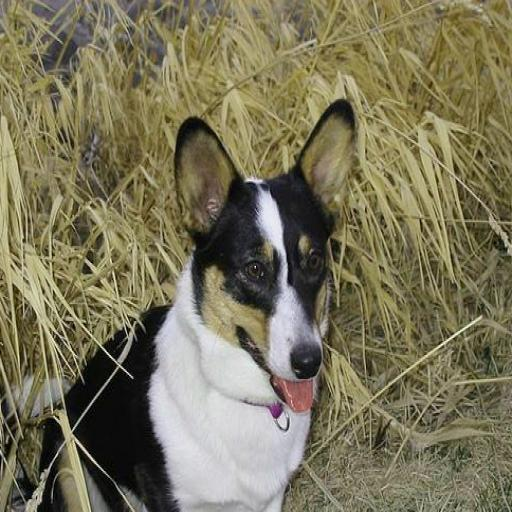dog_face: (174, 109, 358, 396)
